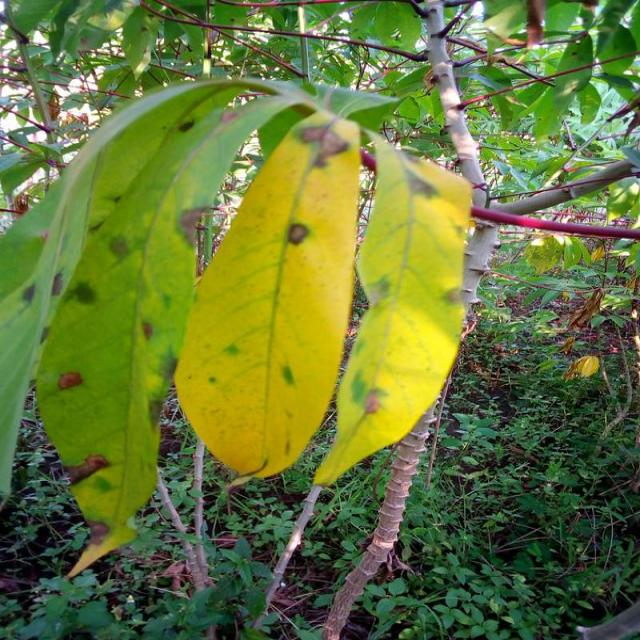cassava leaf: (1, 74, 473, 579), (172, 109, 362, 481), (311, 138, 474, 488)
